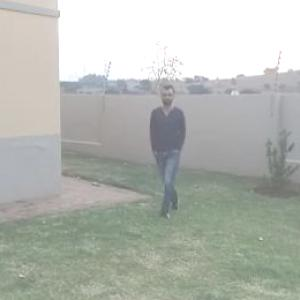follow: (142, 82, 186, 211)
